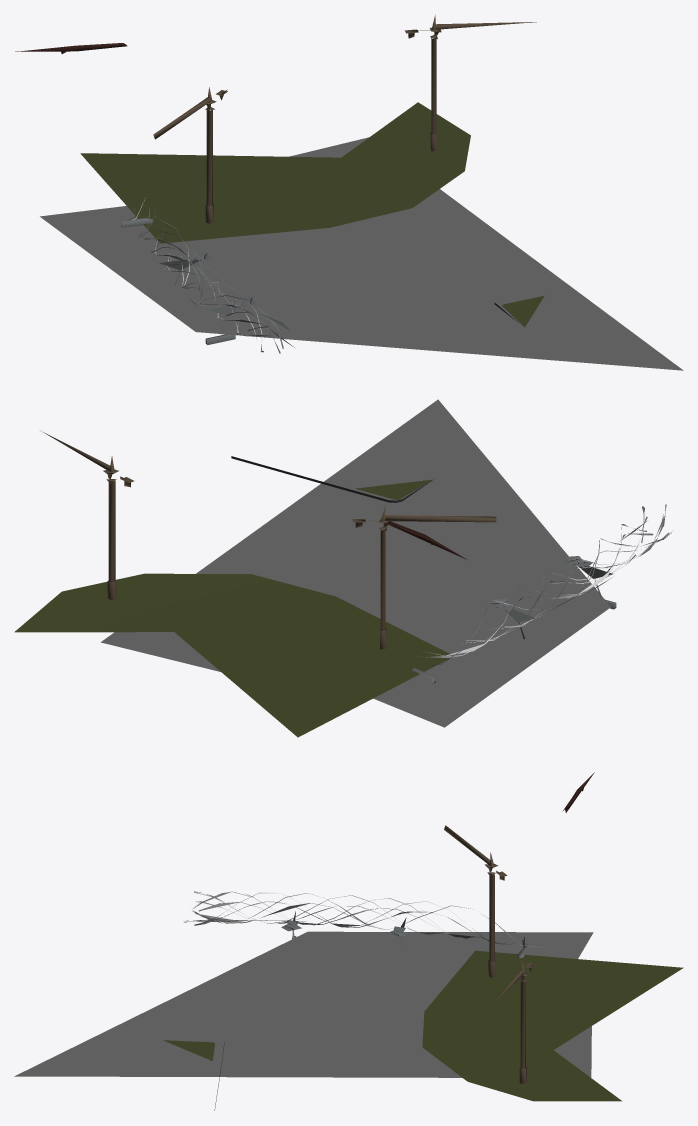
The picture shows the model from 3 angles, top to bottom: view 1: azimuth 30°, elevation 25°; view 2: azimuth 150°, elevation 25°; view 3: azimuth 270°, elevation 25°; orthographic projection. The views are drawn at different scales.
Parts seen in each view (by area): view 1: merged__lod1; view 2: merged__lod1; view 3: merged__lod1.
Boxes of the visible parts, bbox=[...] form: merged__lod1: bbox=[15, 15, 683, 370]; merged__lod1: bbox=[14, 399, 672, 737]; merged__lod1: bbox=[14, 772, 683, 1110].
Bounding box in the file's own units: 234 × 85.65 × 318.
